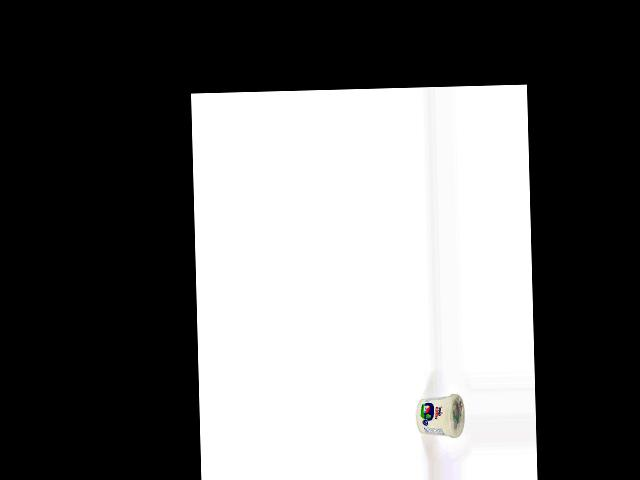cotage: (413, 391, 465, 439)
